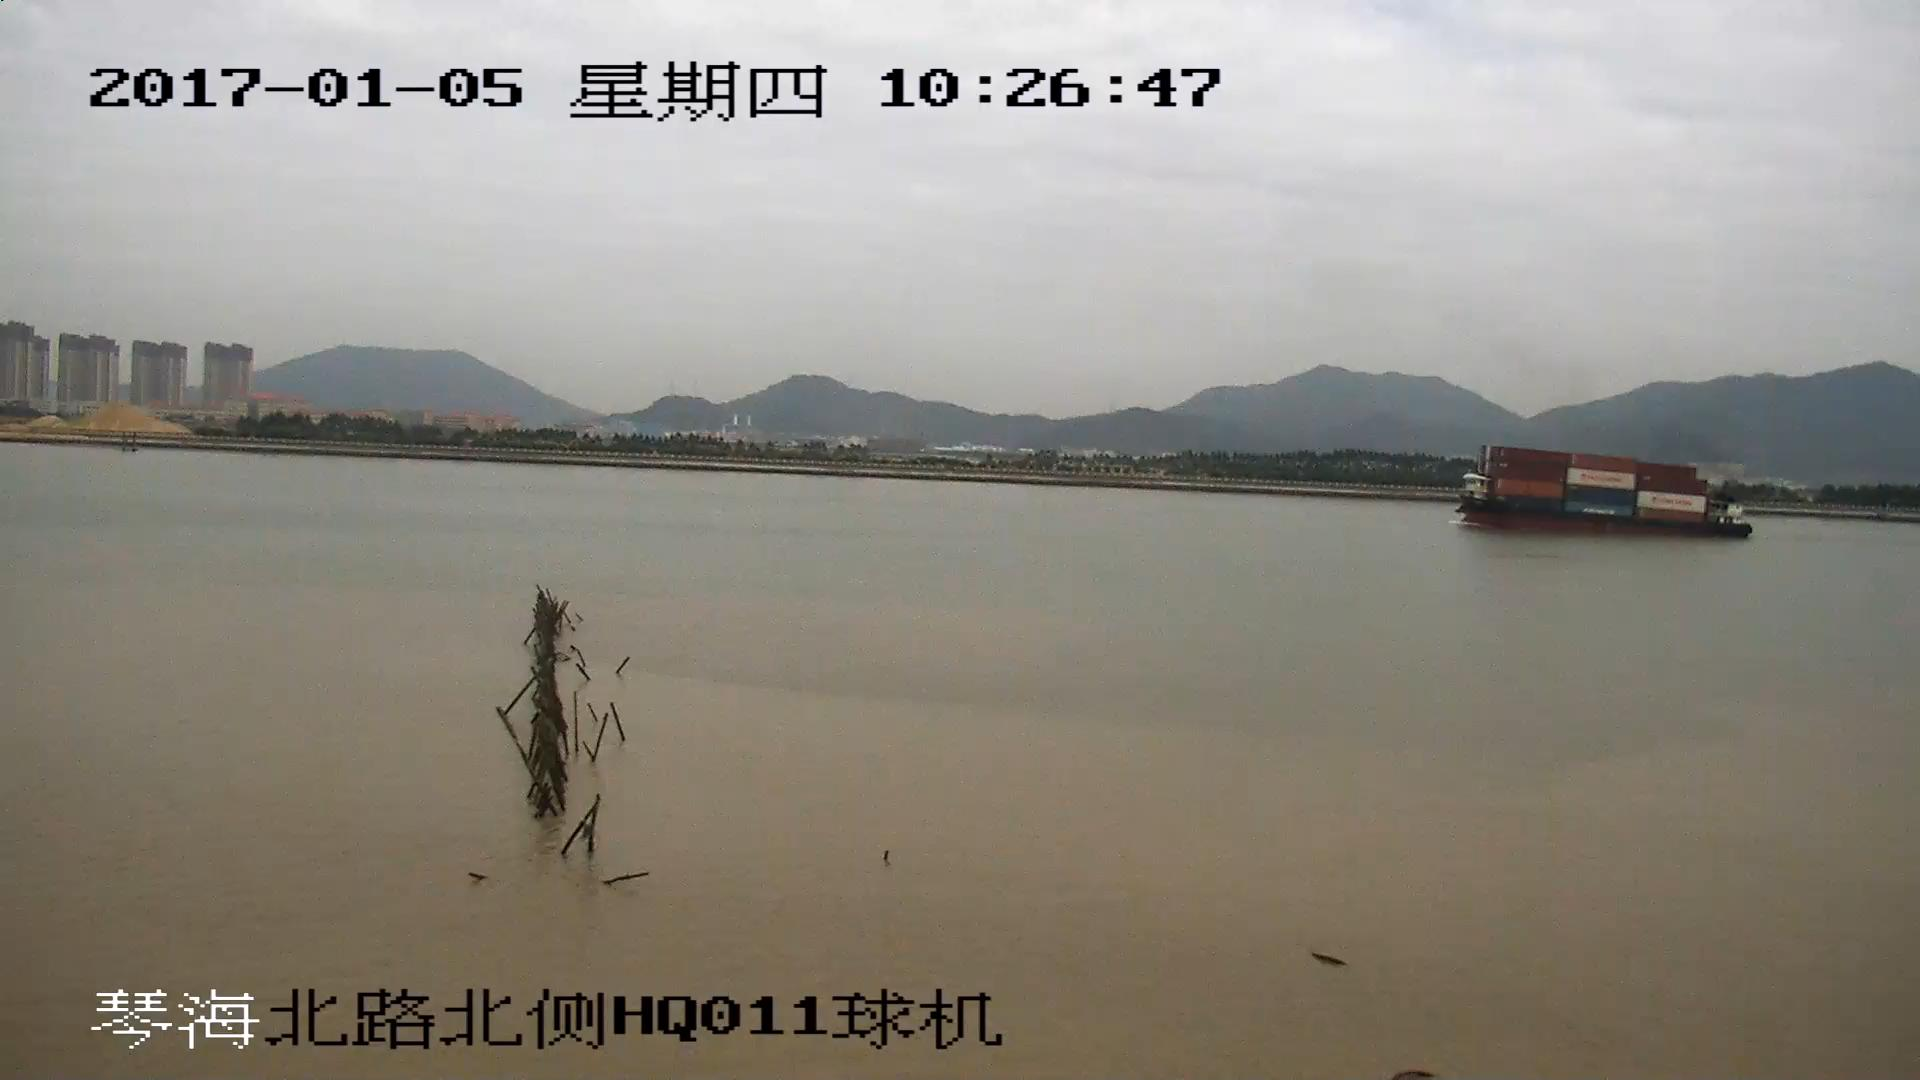container ship: (1458, 445, 1751, 536)
